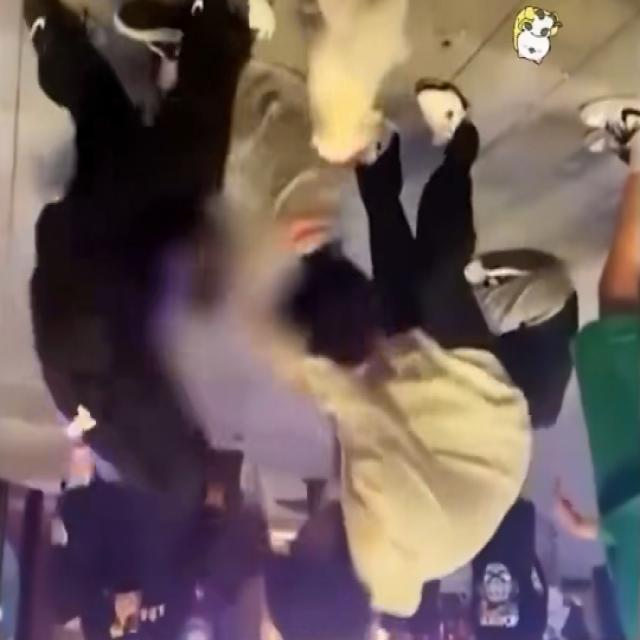nofight: (24, 3, 254, 584), (273, 80, 522, 614), (559, 97, 639, 640)
